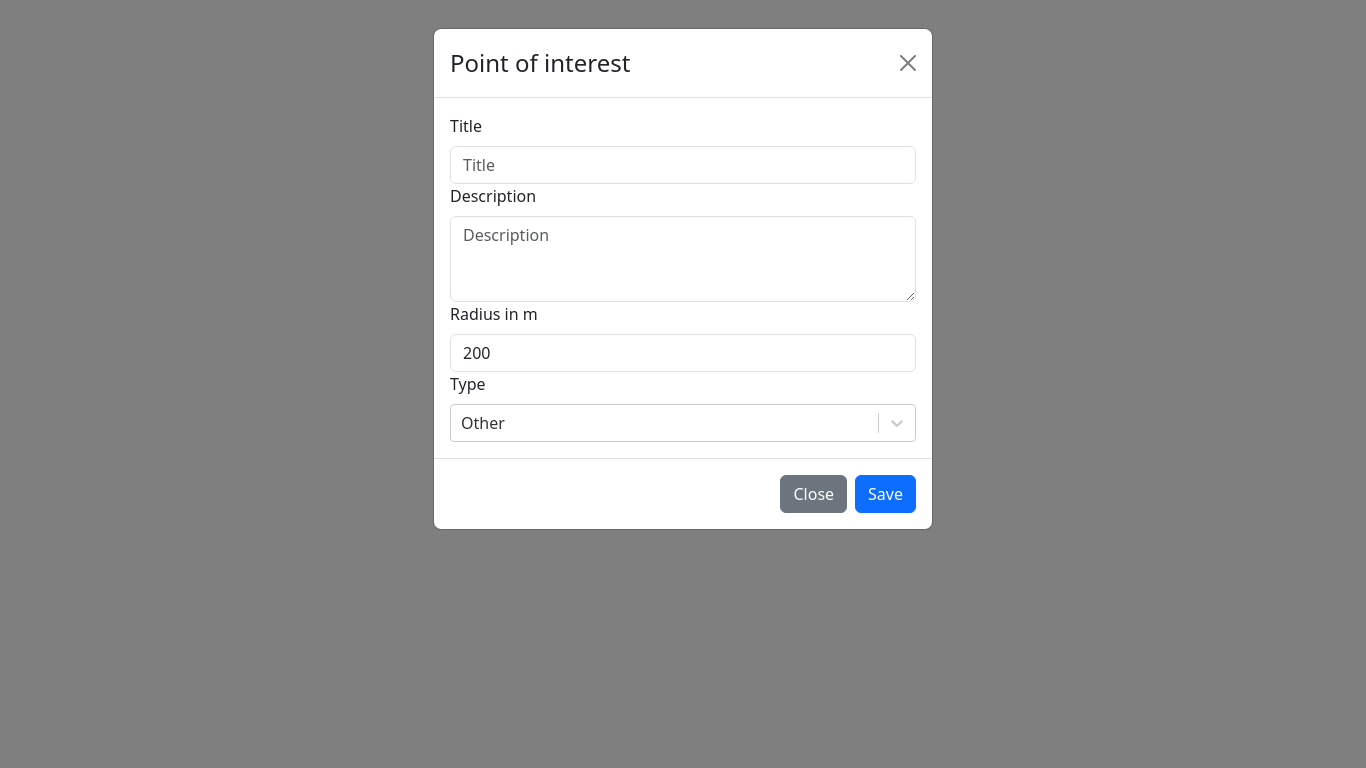
Test: Points of interest modal › uses the creation defaults and groups the type options
This screenshot has width=1366, height=768.
Expected: the dialog is shown, top-left (433, 28), bottom-right (933, 530)
Expected: the number field showing "200" is shown, top-left (450, 334), bottom-right (916, 372)
Click the text "Other" at {"x": 483, "y": 423}, box top-left (461, 412), bottom-right (505, 434)
(page scrolled)
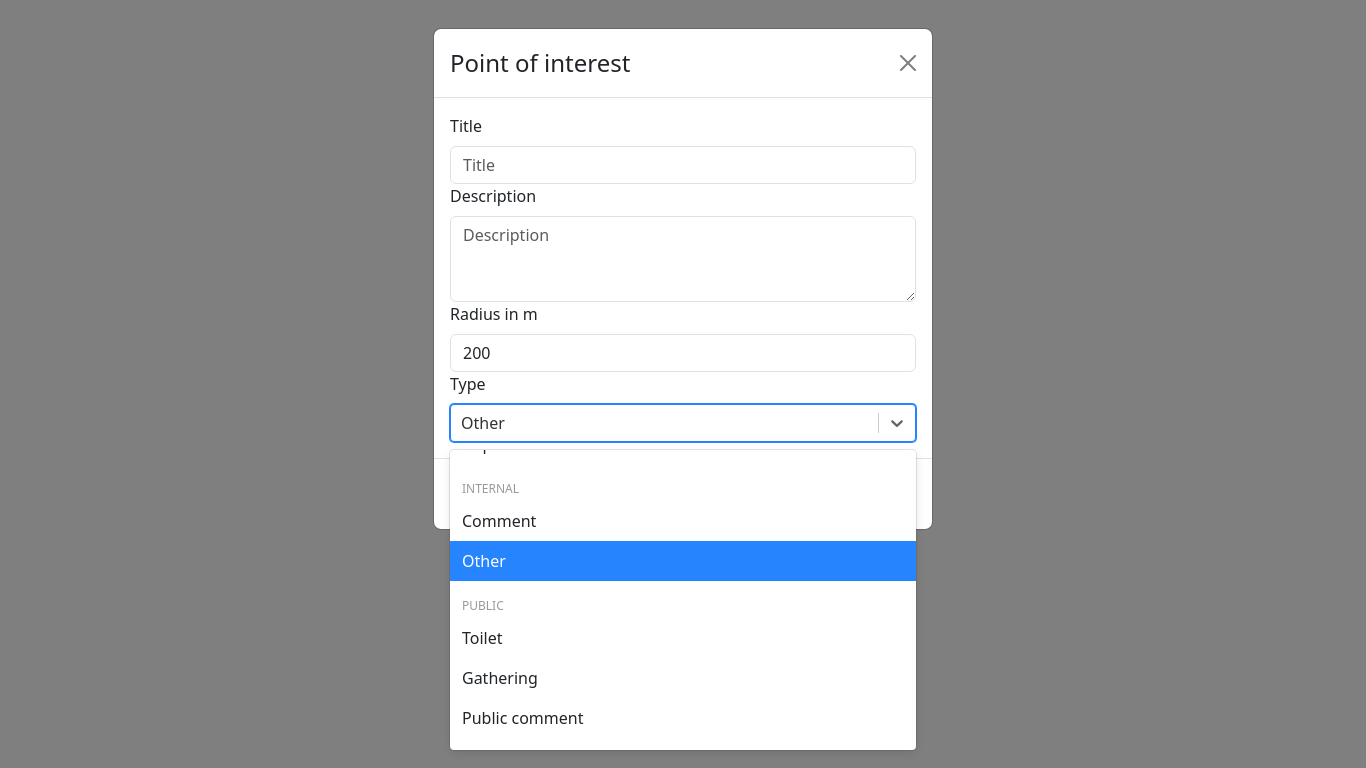
Expected: the text "Internal" is shown, top-left (462, 480), bottom-right (519, 497)
Expected: the text "Public" is shown, top-left (462, 597), bottom-right (504, 614)
Expected: the option "Public comment" is shown, top-left (462, 707), bottom-right (584, 729)
